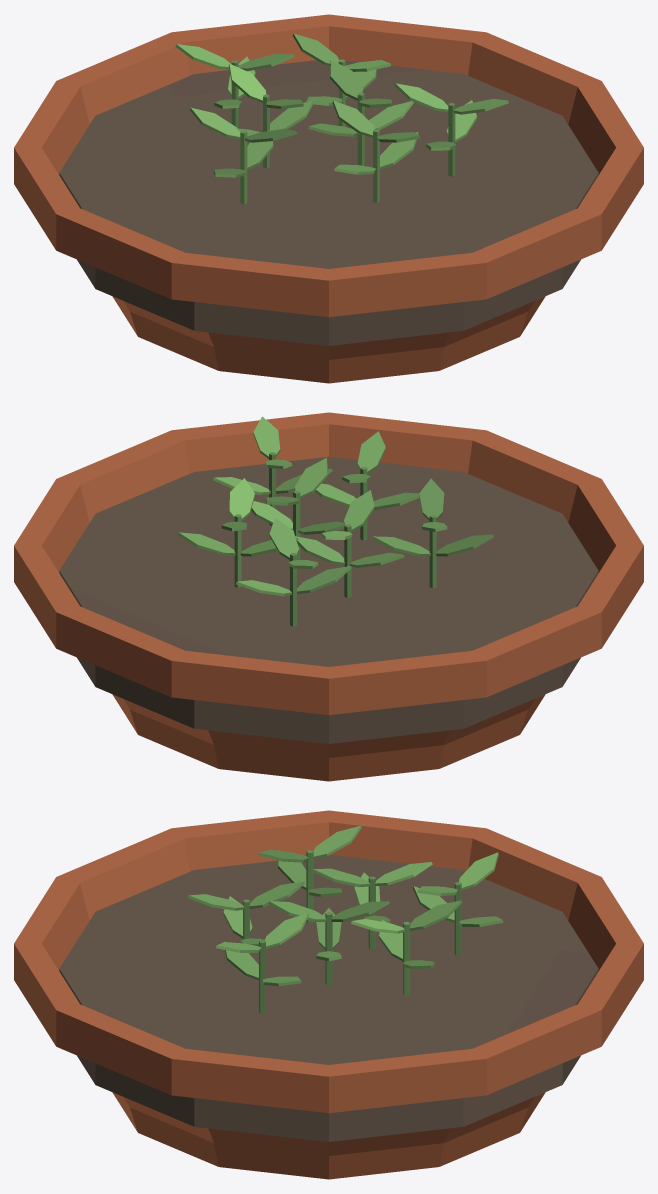
File: moss-undulatum.glb
3 views of the same model, one above another, from view 1: azimuth 30°, elevation 25°; view 2: azimuth 150°, elevation 25°; view 3: azimuth 270°, elevation 25° (orthographic).
Parts seen in each view (by area): view 1: moss-undulatum/review-rooted-soil, moss-undulatum/review-terra-vessel, moss-undulatum/moss-leaf-008, moss-undulatum/moss-leaf-003, moss-undulatum/moss-leaf-013, moss-undulatum/moss-leaf-023, moss-undulatum/moss-leaf-028, moss-undulatum/moss-leaf-018, moss-undulatum/moss-leaf-033, moss-undulatum/moss-leaf-007, moss-undulatum/moss-leaf-012, moss-undulatum/moss-leaf-002 (+4 smaller); view 2: moss-undulatum/review-rooted-soil, moss-undulatum/review-terra-vessel, moss-undulatum/moss-leaf-005, moss-undulatum/moss-leaf-010, moss-undulatum/moss-leaf-020, moss-undulatum/moss-leaf-015, moss-undulatum/moss-leaf-030, moss-undulatum/moss-leaf-035, moss-undulatum/moss-leaf-025, moss-undulatum/moss-leaf-034, moss-undulatum/moss-leaf-007, moss-undulatum/moss-leaf-017 (+3 smaller); view 3: moss-undulatum/review-rooted-soil, moss-undulatum/review-terra-vessel, moss-undulatum/moss-leaf-033, moss-undulatum/moss-leaf-028, moss-undulatum/moss-leaf-023, moss-undulatum/moss-leaf-018, moss-undulatum/moss-leaf-013, moss-undulatum/moss-leaf-008, moss-undulatum/moss-leaf-003, moss-undulatum/moss-leaf-029, moss-undulatum/moss-leaf-010, moss-undulatum/moss-leaf-005 (+3 smaller).
Boxes of the visible parts, bbox=[...] form: moss-undulatum/review-rooted-soil: bbox=[59, 60, 598, 345]; moss-undulatum/review-terra-vessel: bbox=[14, 14, 643, 383]; moss-undulatum/moss-leaf-008: bbox=[229, 63, 266, 102]; moss-undulatum/moss-leaf-003: bbox=[330, 60, 362, 100]; moss-undulatum/moss-leaf-013: bbox=[332, 100, 374, 137]; moss-undulatum/moss-leaf-023: bbox=[190, 107, 240, 139]; moss-undulatum/moss-leaf-028: bbox=[394, 83, 448, 112]; moss-undulatum/moss-leaf-018: bbox=[292, 33, 338, 65]; moss-undulatum/moss-leaf-033: bbox=[175, 44, 230, 69]; moss-undulatum/moss-leaf-007: bbox=[270, 100, 314, 130]; moss-undulatum/moss-leaf-012: bbox=[380, 132, 418, 169]; moss-undulatum/moss-leaf-002: bbox=[369, 101, 413, 129]; moss-undulatum/review-rooted-soil: bbox=[59, 456, 598, 743]; moss-undulatum/review-terra-vessel: bbox=[14, 412, 643, 781]; moss-undulatum/moss-leaf-005: bbox=[295, 458, 327, 498]; moss-undulatum/moss-leaf-010: bbox=[344, 490, 374, 531]; moss-undulatum/moss-leaf-020: bbox=[229, 478, 254, 520]; moss-undulatum/moss-leaf-015: bbox=[357, 431, 385, 473]; moss-undulatum/moss-leaf-030: bbox=[253, 416, 280, 458]; moss-undulatum/moss-leaf-035: bbox=[269, 518, 298, 559]; moss-undulatum/moss-leaf-025: bbox=[419, 478, 444, 520]; moss-undulatum/moss-leaf-034: bbox=[297, 566, 351, 593]; moss-undulatum/moss-leaf-007: bbox=[295, 536, 344, 565]; moss-undulatum/moss-leaf-017: bbox=[178, 532, 235, 555]; moss-undulatum/review-rooted-soil: bbox=[59, 855, 598, 1141]; moss-undulatum/review-terra-vessel: bbox=[14, 810, 643, 1179]; moss-undulatum/moss-leaf-033: bbox=[459, 852, 498, 890]; moss-undulatum/moss-leaf-028: bbox=[265, 913, 308, 948]; moss-undulatum/moss-leaf-023: bbox=[313, 825, 361, 859]; moss-undulatum/moss-leaf-018: bbox=[409, 900, 461, 930]; moss-undulatum/moss-leaf-013: bbox=[249, 881, 304, 908]; moss-undulatum/moss-leaf-008: bbox=[375, 862, 432, 885]; moss-undulatum/moss-leaf-003: bbox=[331, 901, 389, 921]; moss-undulatum/moss-leaf-029: bbox=[224, 941, 258, 980]; moss-undulatum/moss-leaf-010: bbox=[312, 868, 369, 887]; moss-undulatum/moss-leaf-005: bbox=[268, 901, 326, 921].
Bounding box in the file's own units: 0.25 × 0.088 × 0.25.
3 materials, 3 textured.
